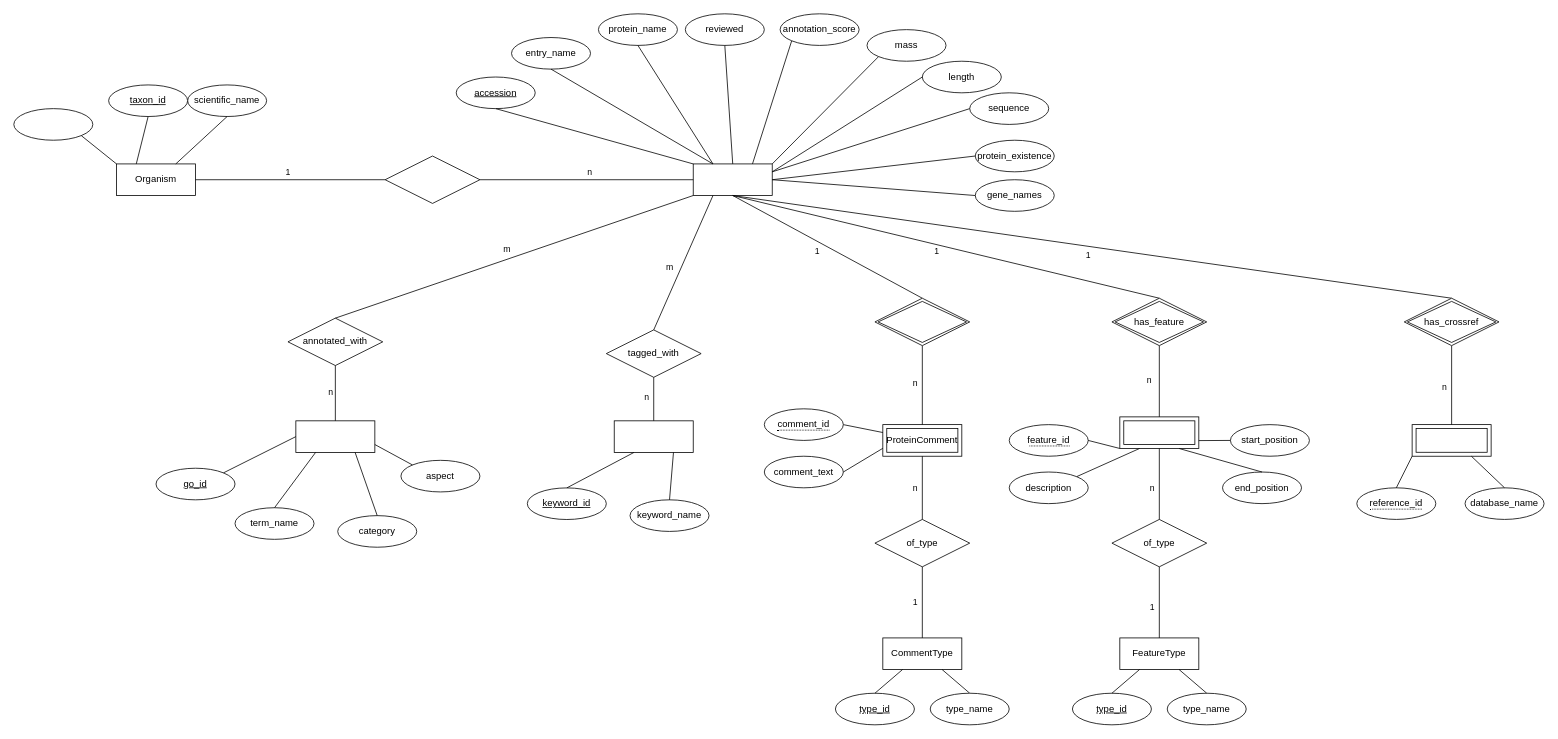
Image size: 1558x739. Some labels were removed from this diagram. Here are the shapes that lost their labels. From the top down, the centre of each, then its label:
At [53,124]: "common_name".
At [432,179]: "belongs_to".
At [732,179]: "Protein".
At [922,321]: "has_comment".
At [335,436]: "GoTerm".
At [653,436]: "Keyword".
At [1159,432]: "ProteinFeature".
At [1451,440]: "CrossReference".
